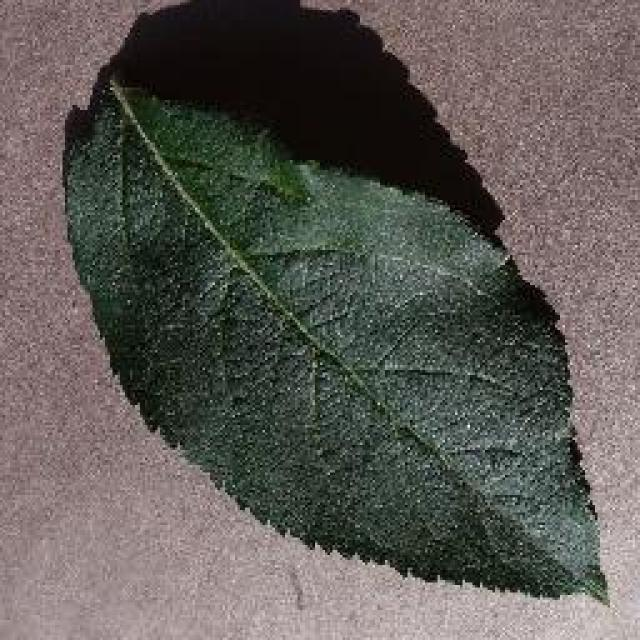apple healthy: (58, 0, 612, 605)
